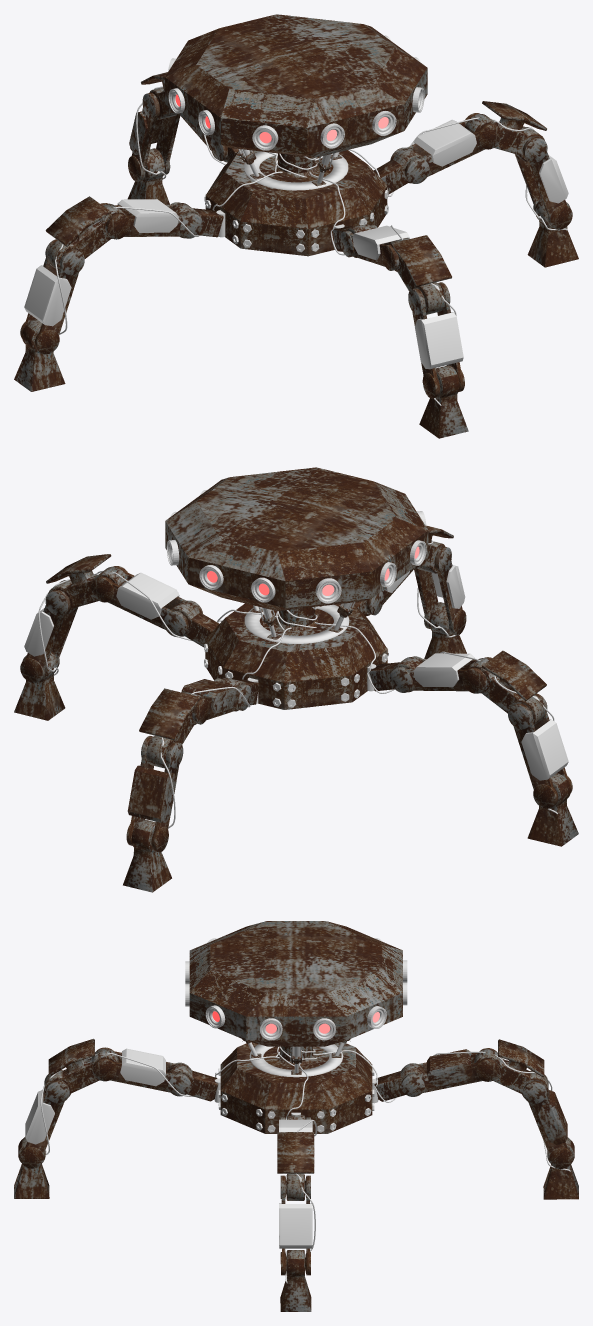
Rendered from 3DMA Final Project.fbx.
3 renders of one model, top to bottom at view 1: azimuth 30°, elevation 25°; view 2: azimuth 150°, elevation 25°; view 3: azimuth 270°, elevation 25°, orthographic. The views are drawn at different scales.
Parts seen in each view (by area): view 1: Head, Base, Outer Joint.006, Outer Joint, Cube.013, Outer Joint.002, Inner Joint.007, Outer Joint.009, Outer Joint.008, Inner Joint.003, Cube.016, Cube.019 (+17 smaller); view 2: Head, Base, Outer Joint.006, Outer Joint.003, Cube.014, Outer Joint.005, Outer Joint.009, Inner Joint.007, Cube.016, Outer Joint.008, Inner Joint.001, Cube.019 (+17 smaller); view 3: Head, Base, Outer Joint, Outer Joint.003, Outer Joint.009, Cube.018, Outer Joint.011, Inner Joint.004, Inner Joint.002, Cube.015, Inner Joint.003, Cube.012 (+11 smaller).
Part boxes in pixels (<box>): Head: <box>165,14,427,157</box>; Base: <box>205,149,387,256</box>; Outer Joint.006: <box>45,196,126,270</box>; Outer Joint: <box>388,235,451,314</box>; Cube.013: <box>415,312,463,369</box>; Outer Joint.002: <box>419,365,468,438</box>; Inner Joint.007: <box>515,126,572,229</box>; Outer Joint.009: <box>465,101,546,161</box>; Outer Joint.008: <box>14,318,65,391</box>; Inner Joint.003: <box>128,92,180,181</box>; Cube.016: <box>24,265,71,326</box>; Cube.019: <box>414,119,476,166</box>; Head: <box>165,467,428,610</box>; Base: <box>205,603,387,709</box>; Outer Joint.006: <box>466,650,546,724</box>; Outer Joint.003: <box>139,688,202,768</box>; Cube.014: <box>127,765,176,822</box>; Outer Joint.005: <box>123,819,171,892</box>; Outer Joint.009: <box>46,554,128,614</box>; Inner Joint.007: <box>20,589,77,682</box>; Cube.016: <box>521,719,568,780</box>; Outer Joint.008: <box>527,773,578,846</box>; Inner Joint.001: <box>414,546,466,635</box>; Cube.019: <box>116,572,179,619</box>; Head: <box>189,921,402,1046</box>; Base: <box>220,1042,372,1133</box>; Outer Joint: <box>44,1038,118,1097</box>; Outer Joint.003: <box>474,1039,548,1098</box>; Outer Joint.009: <box>277,1132,314,1200</box>; Cube.018: <box>279,1203,312,1248</box>; Outer Joint.011: <box>280,1250,311,1311</box>; Inner Joint.004: <box>401,1048,499,1096</box>; Inner Joint.002: <box>93,1047,191,1096</box>; Cube.015: <box>427,1049,472,1086</box>; Inner Joint.003: <box>523,1070,572,1168</box>; Cube.012: <box>120,1048,165,1086</box>.
Size of the model in its own units: 302 by 143 by 302.
